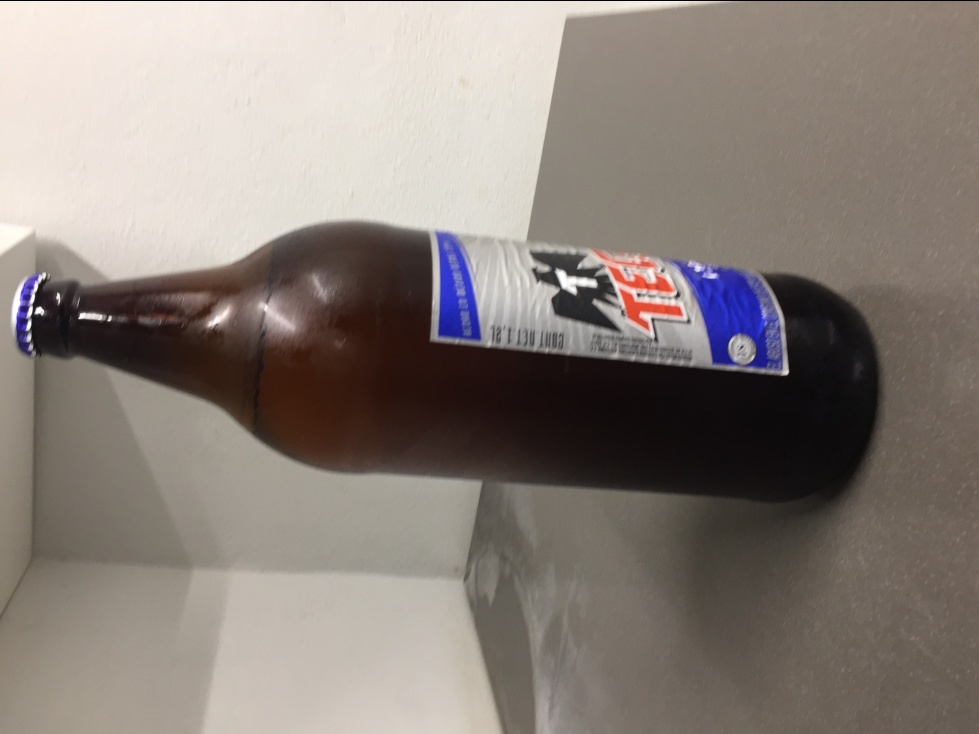tecateC: (22, 220, 883, 510)
